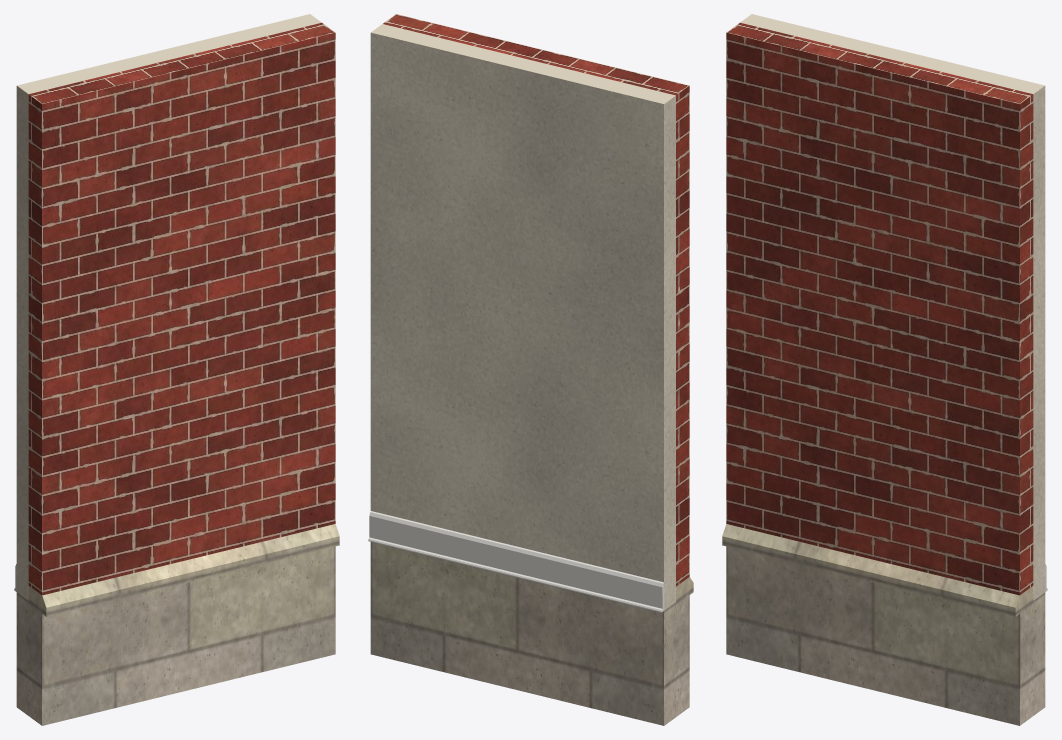
File: w0_chim.glb
3 views of the same model, side by side, from view 1: azimuth 30°, elevation 25°; view 2: azimuth 150°, elevation 25°; view 3: azimuth 330°, elevation 25° (orthographic).
Visible parts, largest first — view 1: w0_chim_brick, w0_chim_stone_t, w0_chim_plaster; view 2: w0_chim_plaster, w0_chim_stone_t, w0_chim_brick, molduras, w0_chim_trim; view 3: w0_chim_brick, w0_chim_stone_t, w0_chim_plaster.
Part boxes in pixels (<box>): w0_chim_brick: <box>28,22,335,595</box>; w0_chim_stone_t: <box>16,524,339,725</box>; w0_chim_plaster: <box>16,14,321,600</box>; w0_chim_plaster: <box>370,24,675,610</box>; w0_chim_stone_t: <box>370,542,693,725</box>; w0_chim_brick: <box>383,14,689,586</box>; molduras: <box>368,524,664,612</box>; w0_chim_trim: <box>369,511,663,595</box>; w0_chim_brick: <box>726,22,1033,595</box>; w0_chim_stone_t: <box>722,524,1045,725</box>; w0_chim_plaster: <box>740,14,1045,600</box>.
Size of the model in its own units: 2 by 4.05 by 0.38.
Materials: 6 (3 with a texture image).
